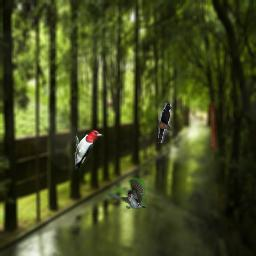Crow: (158, 103, 172, 143)
Swallow: (107, 178, 147, 209)
Woodpecker: (74, 130, 104, 170)
